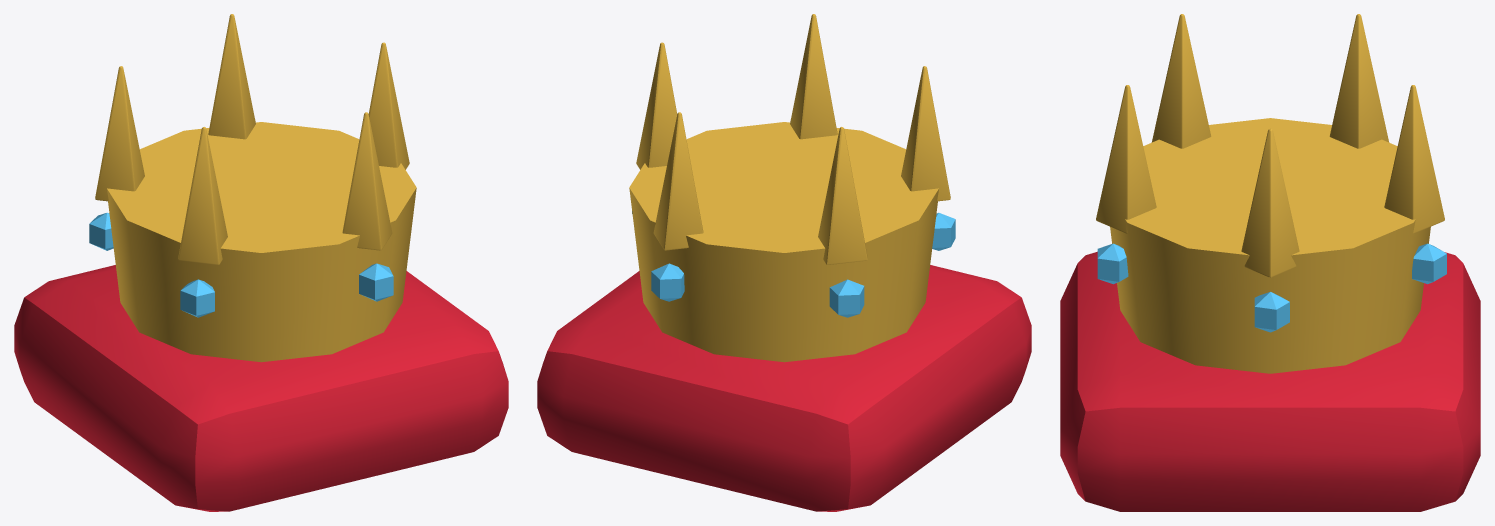
Rendered from RailRoyal.fbx.
3 renders of one model, left to right at view 1: azimuth 30°, elevation 25°; view 2: azimuth 150°, elevation 25°; view 3: azimuth 270°, elevation 25°, orthographic. The views are drawn at different scales.
Visible parts, largest first — view 1: RailRoyal; view 2: RailRoyal; view 3: RailRoyal.
Part boxes in pixels (x1,y1,x2,y2): RailRoyal: [14, 14, 508, 511]; RailRoyal: [537, 14, 1031, 511]; RailRoyal: [1060, 14, 1480, 511].
Bounding box in the file's own units: 140 × 140 × 140.
